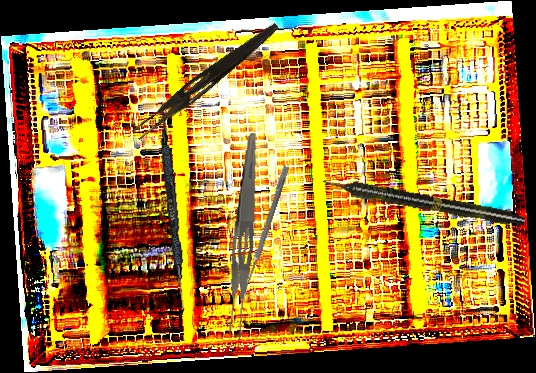Dressing Forceps: (131, 15, 281, 146), (224, 131, 261, 341)
Handpiece: (321, 173, 527, 230)
Spatula Surgical: (153, 101, 192, 319)
Surgical Spoon: (239, 165, 290, 300)
